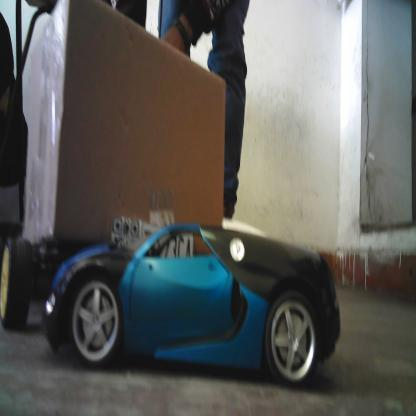LeadTruck: (3, 2, 227, 324)
